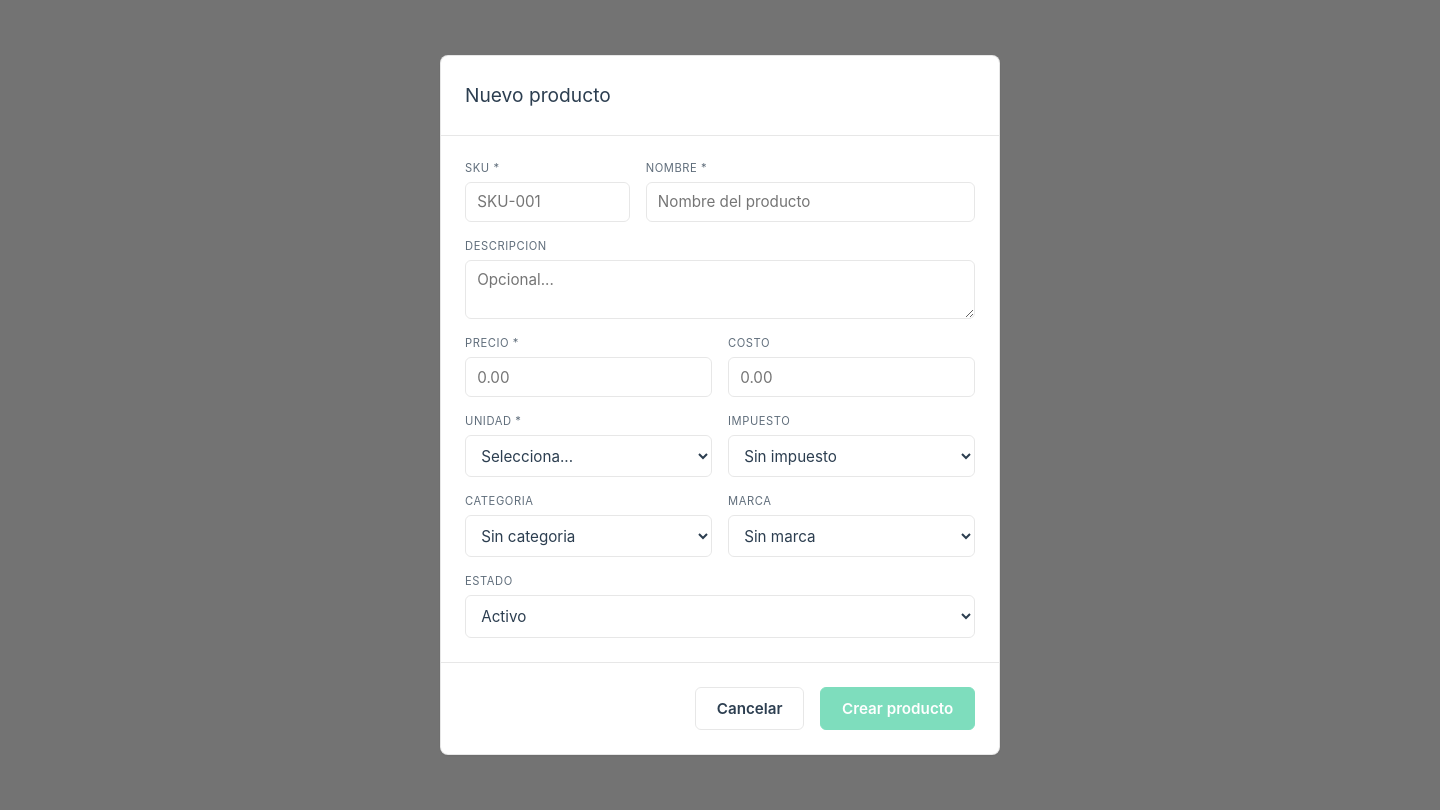
Test: ProductFormModal › muestra el error del store cuando el guardado falla
The image size is (1440, 810).
Type "SKU-9" into the field labelled "SKU *" at x=547, y=202, box [465,182,630,222]
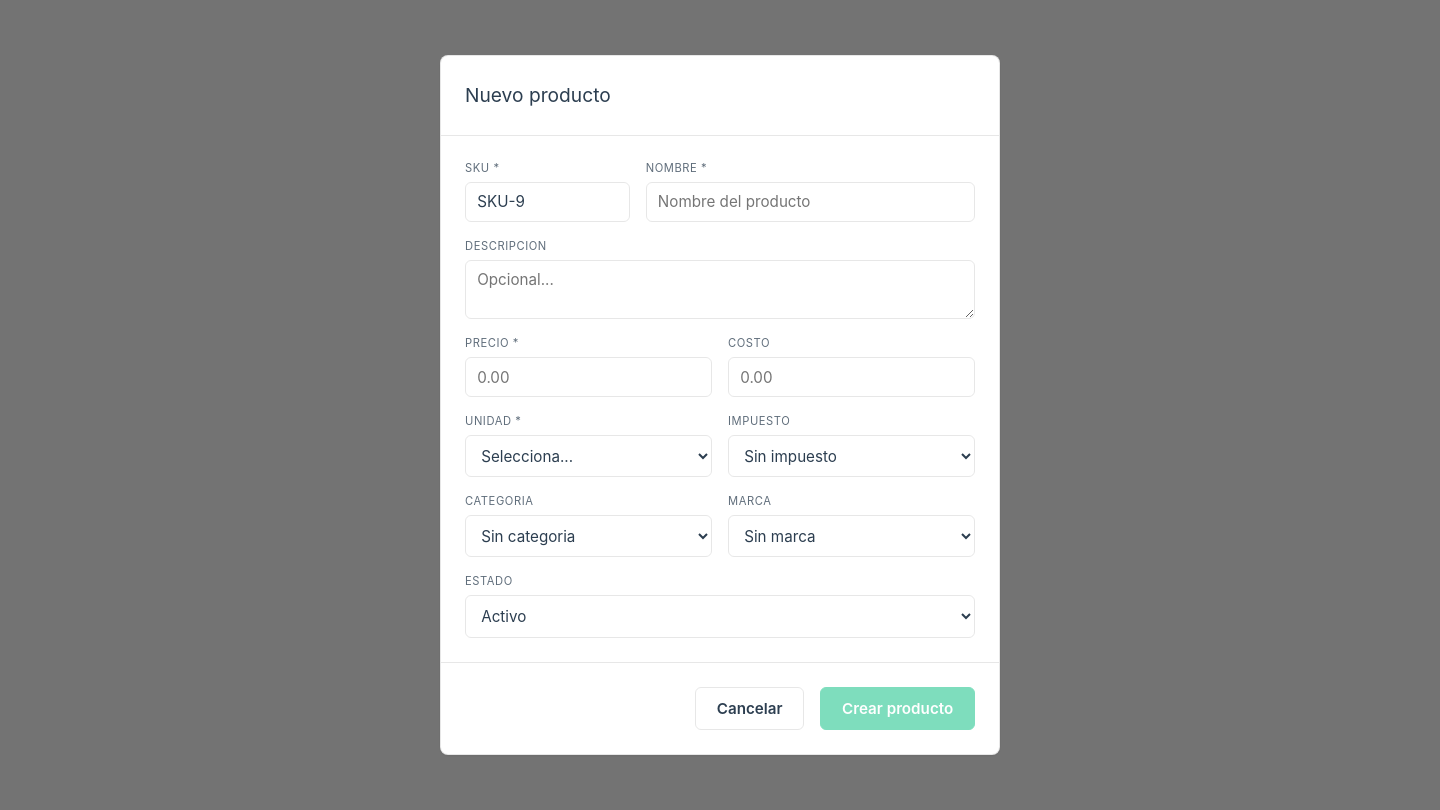
Type "Nuevo" into the field labelled "Nombre *" at x=810, y=202, box [646,182,975,222]
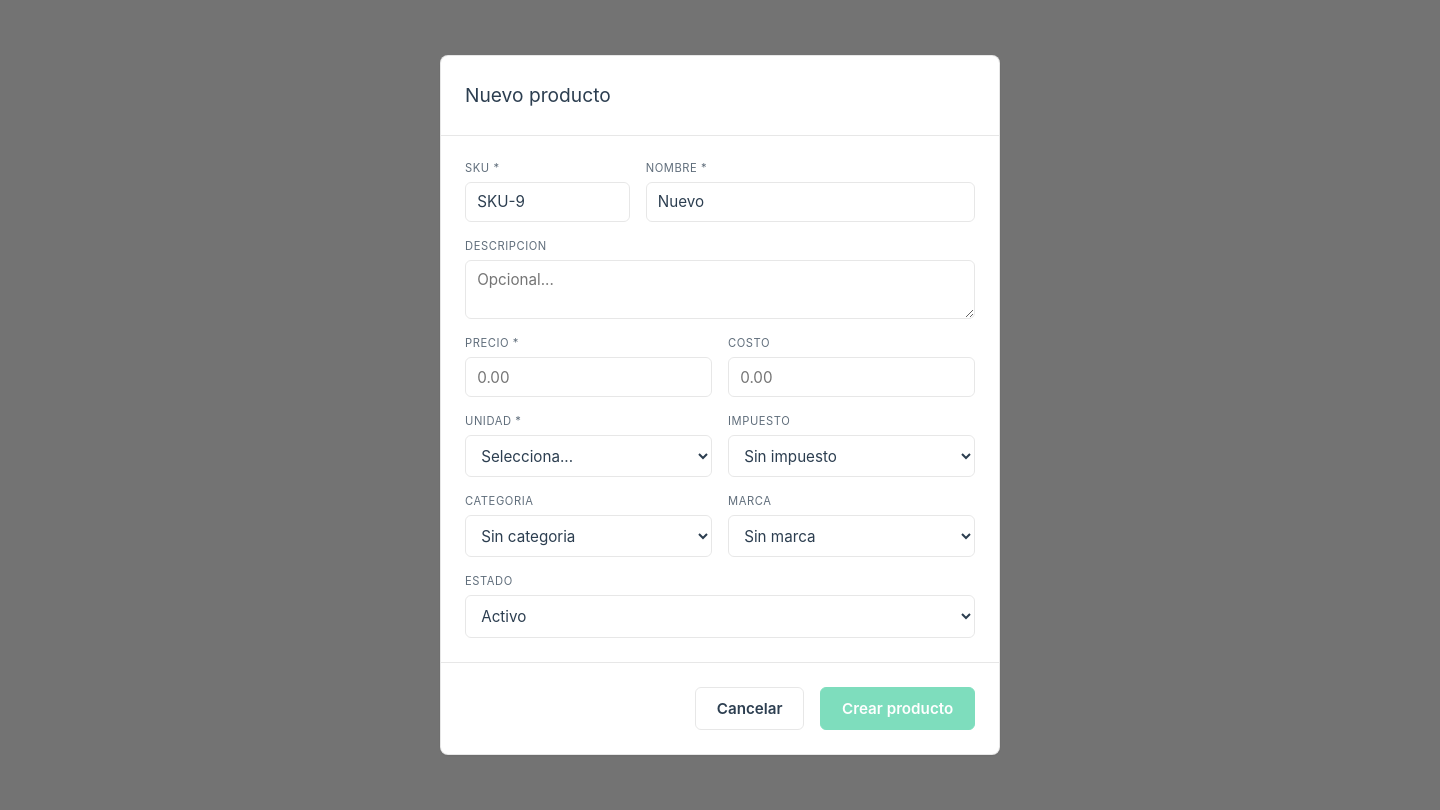
Select "Pieza (PZA)" in the dropdown labelled "Unidad *" at x=588, y=456, box [465,435,712,477]
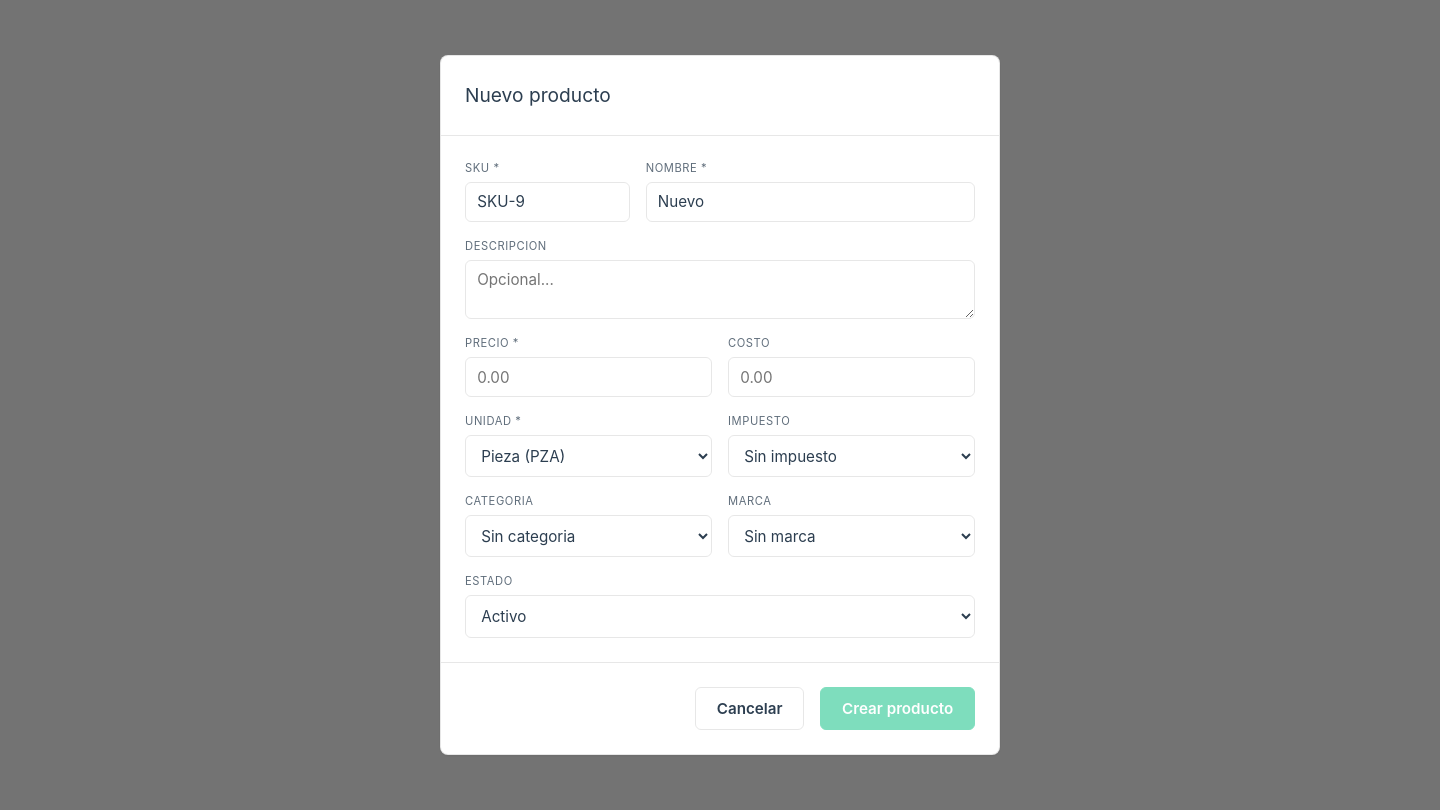
Type "15" into the field labelled "Precio *" at x=588, y=377, box [465,357,712,397]
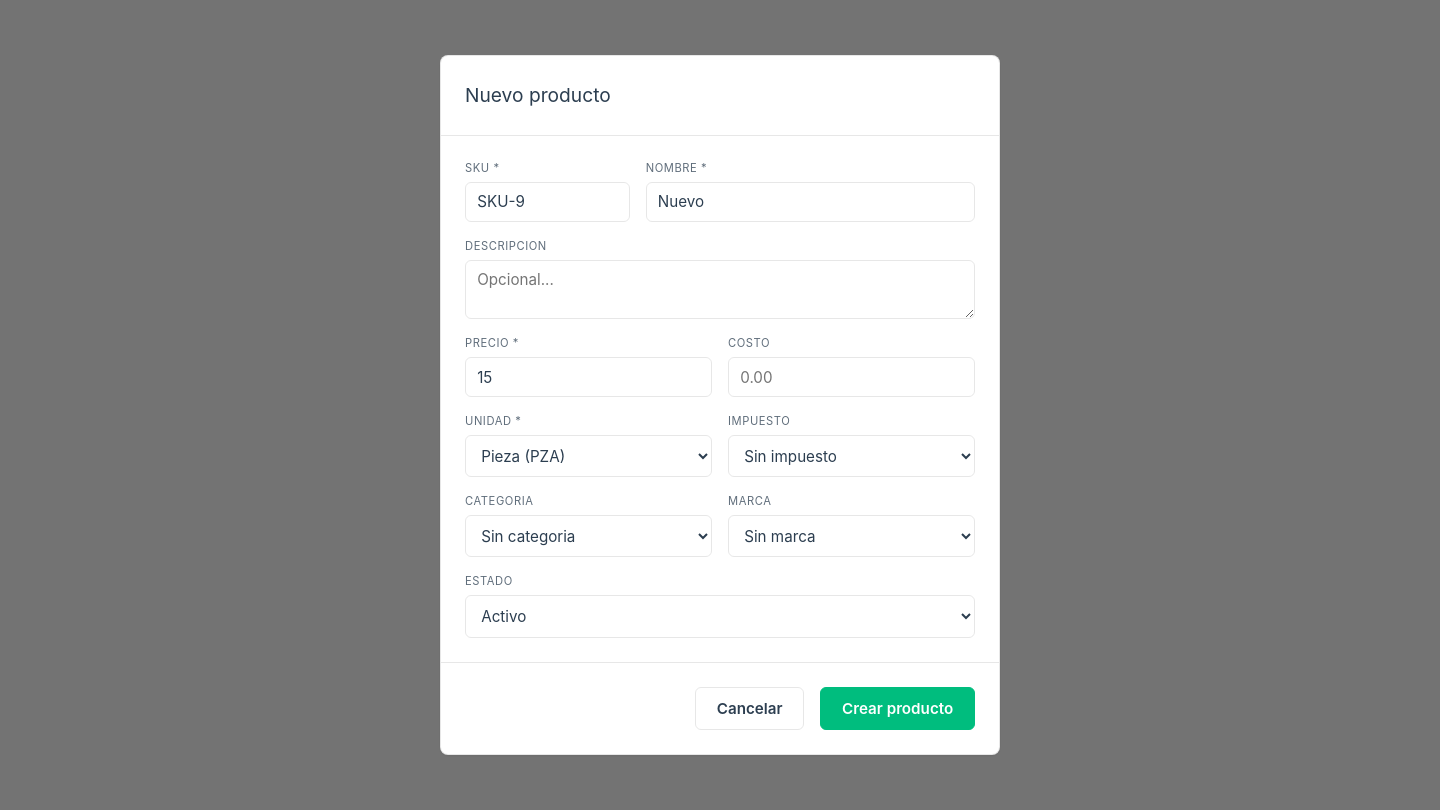
Click the button "Crear producto" at x=898, y=708, box [820,686,975,730]
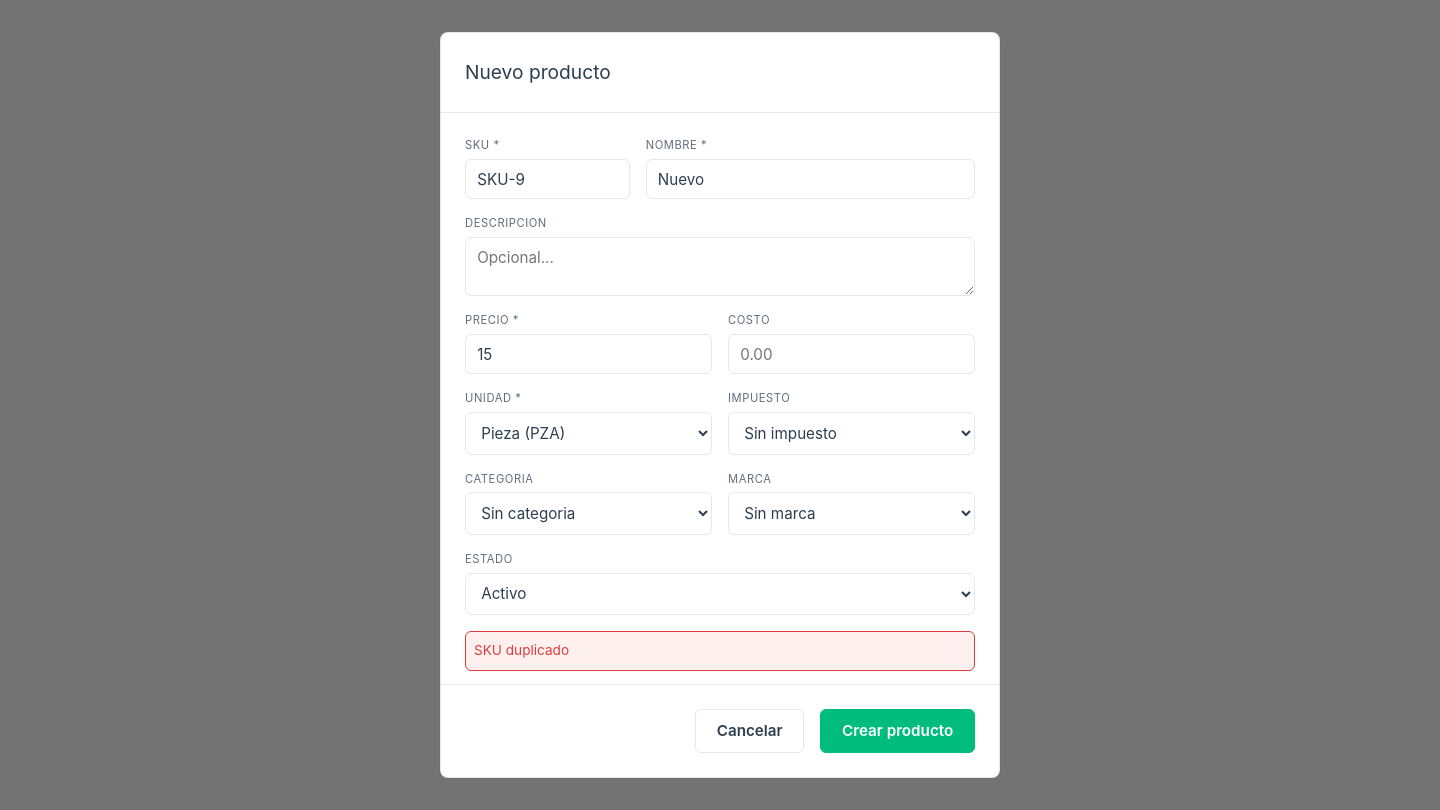
Now the text "SKU duplicado" is shown, box [465,631,975,671]
